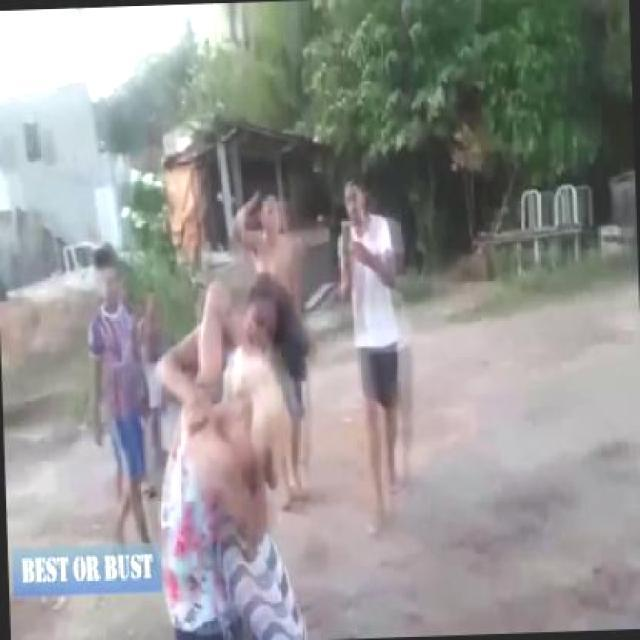fight: (149, 272, 322, 638)
non-fight: (332, 178, 410, 534), (84, 240, 158, 540)
